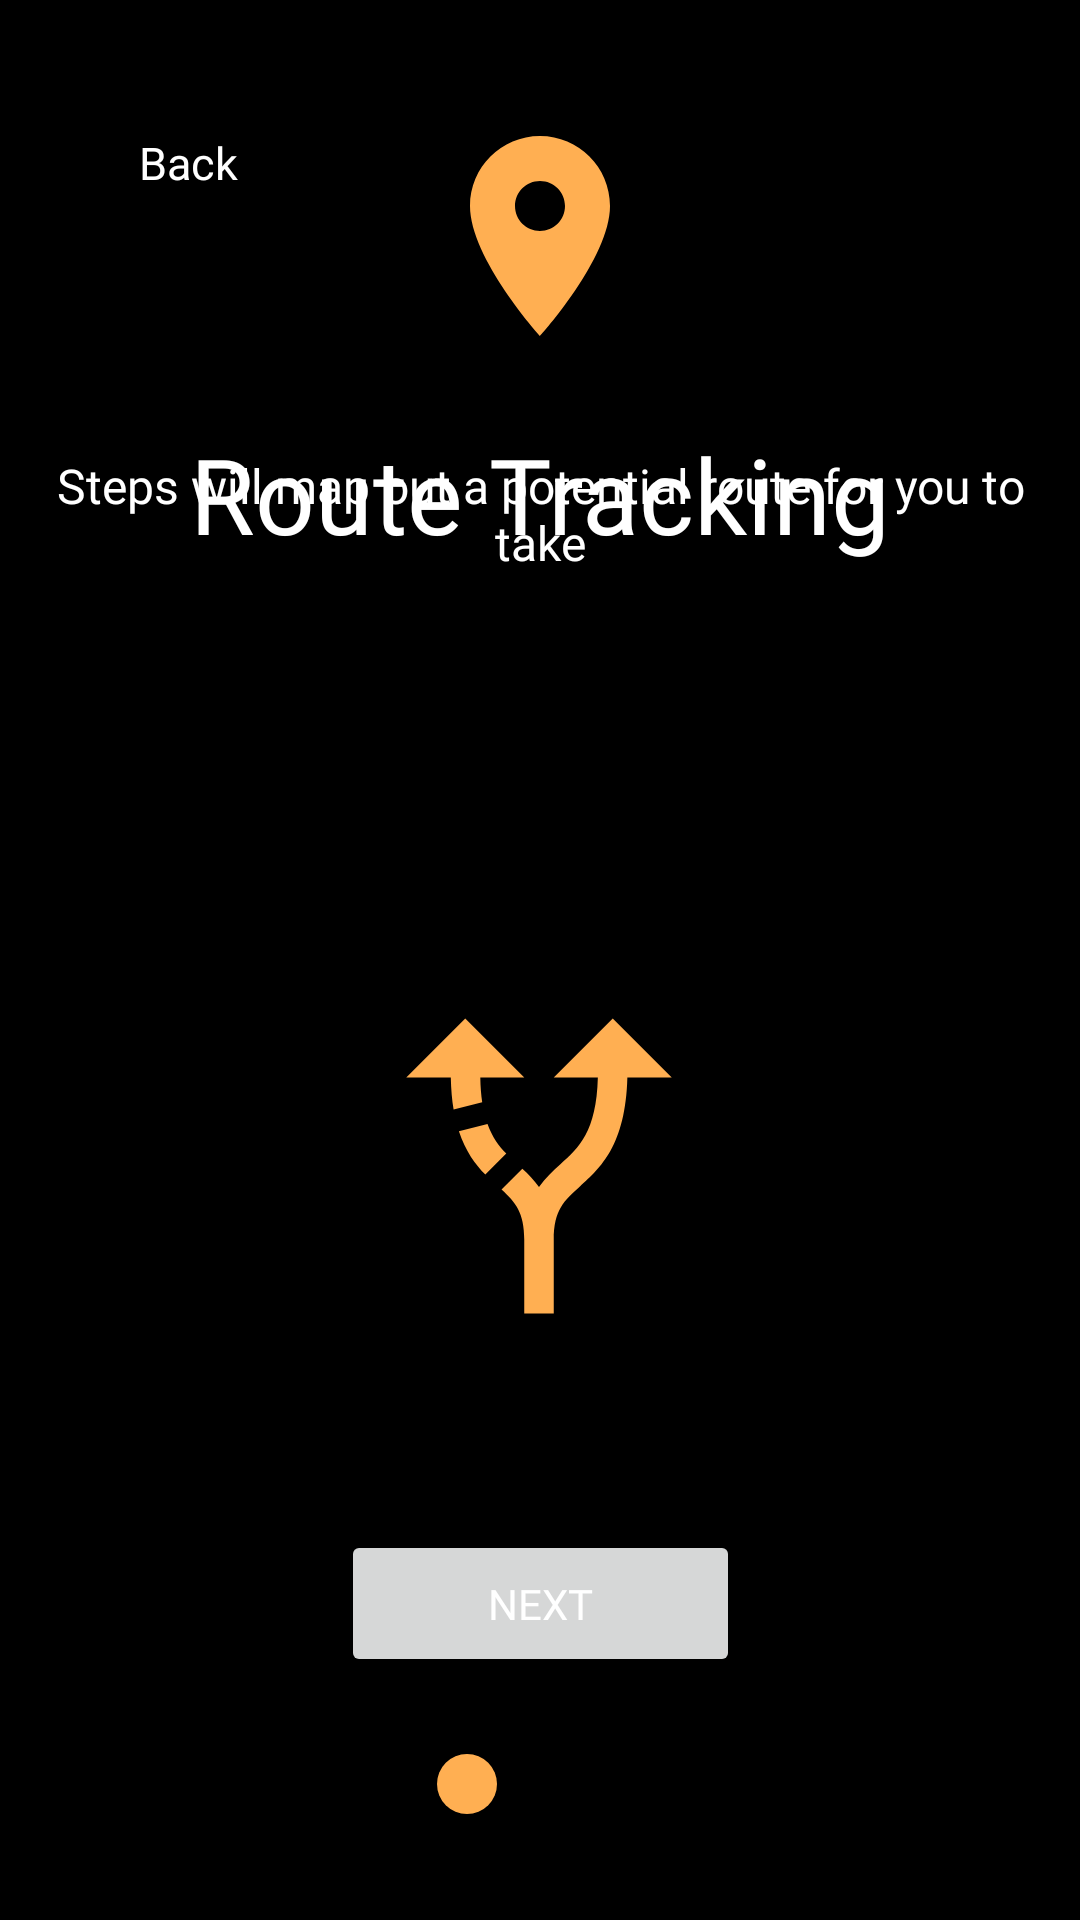

Icons on this 1080 x 1920 Android screen, each with the point to tap as (x=x, y=y):
location on: (x=540, y=236)
